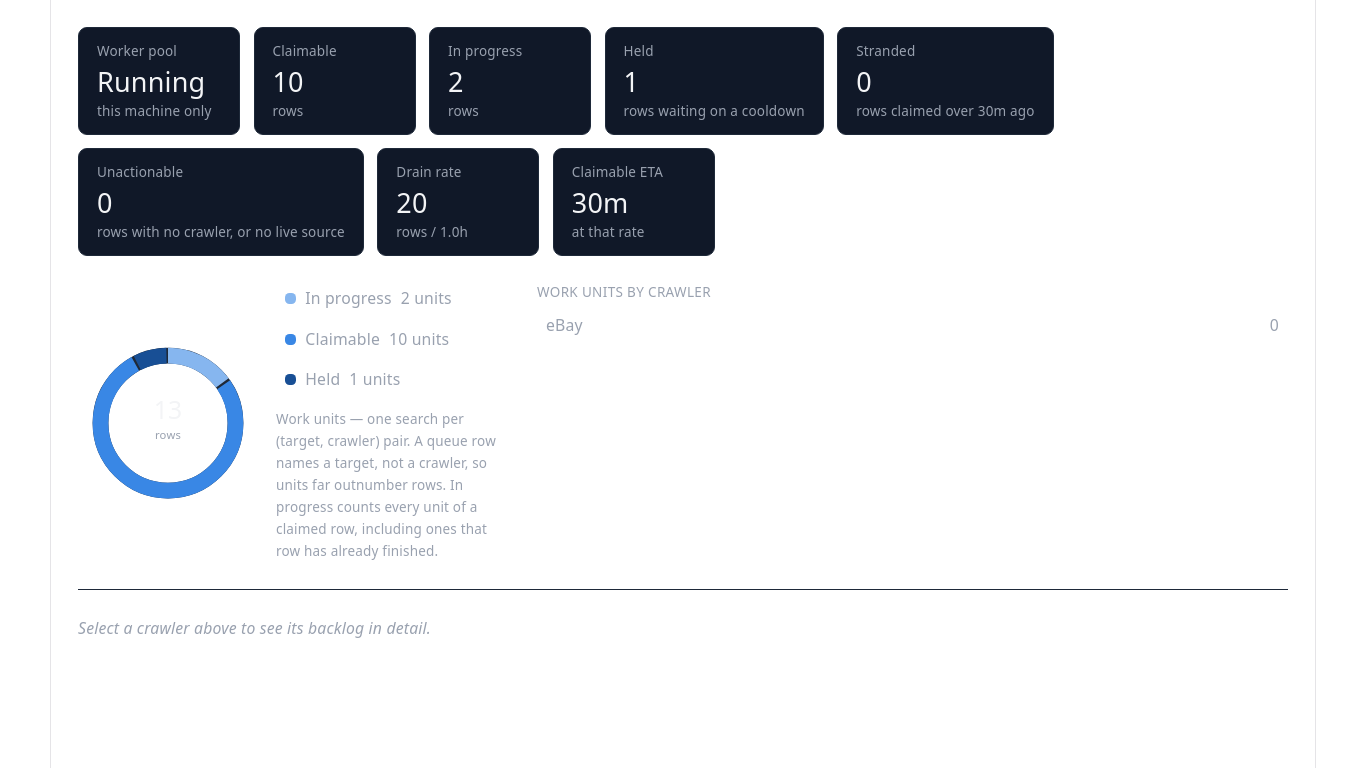
Test: QueueView › shows the filtered state's own units, not the pending ones
expect the button "eBay 0" is shown: met, box [537,310,1288,341]
Click the button "In progress 2 units" at [393, 299], box [276,283,510,314]
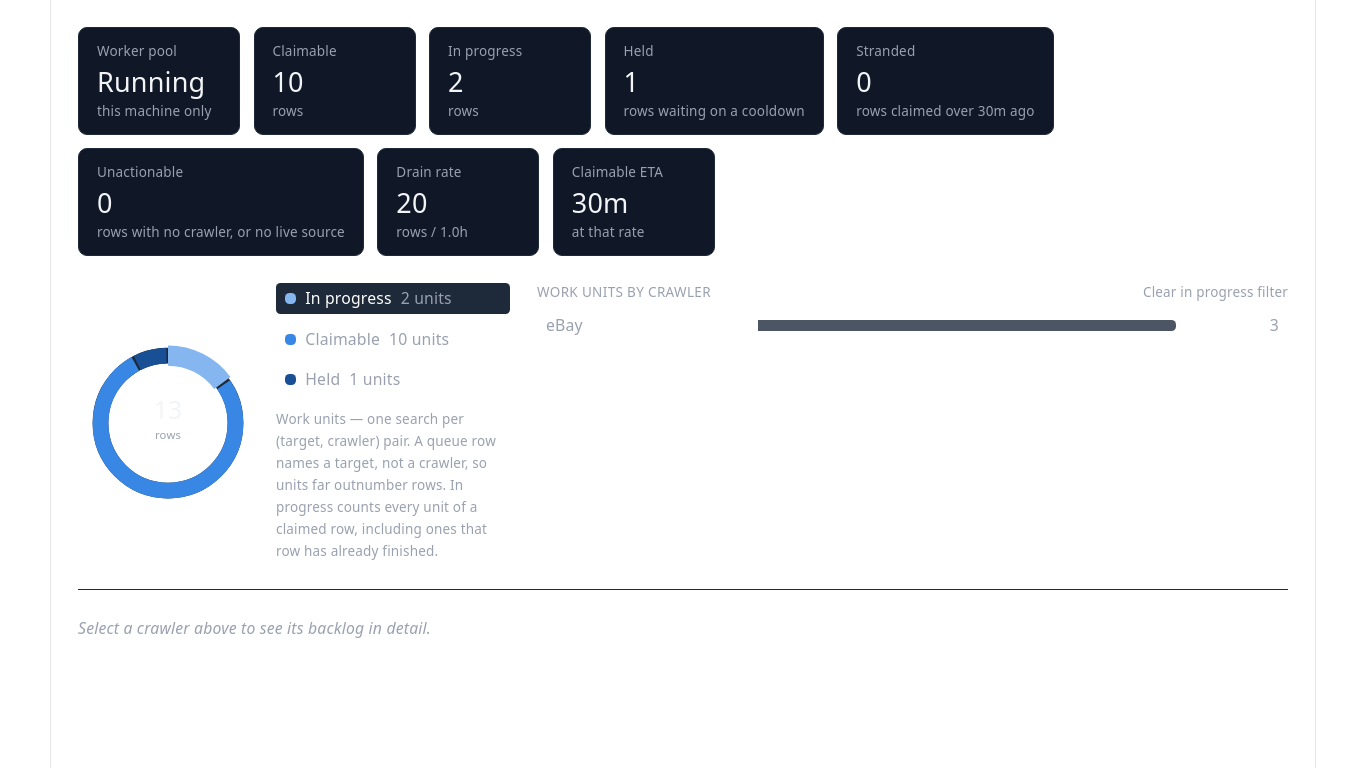
expect the button "eBay 3" is shown: met, box [537,310,1288,341]
